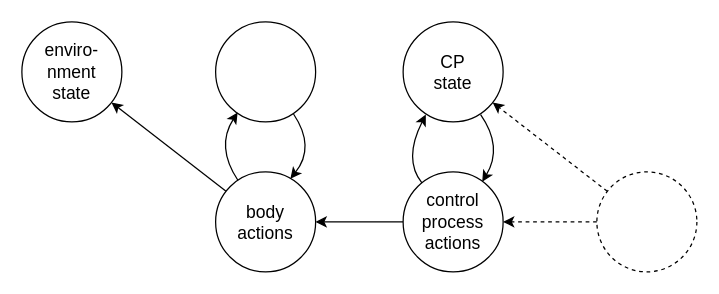
The diagram is 719 pixels wide and 294 high, and some of its shapes have lost their labels. Here are the shapes that lost their labels. From the top down, the box of each, then its label:
(214, 21, 316, 122): body state
(596, 171, 697, 272): meta manage-ment
